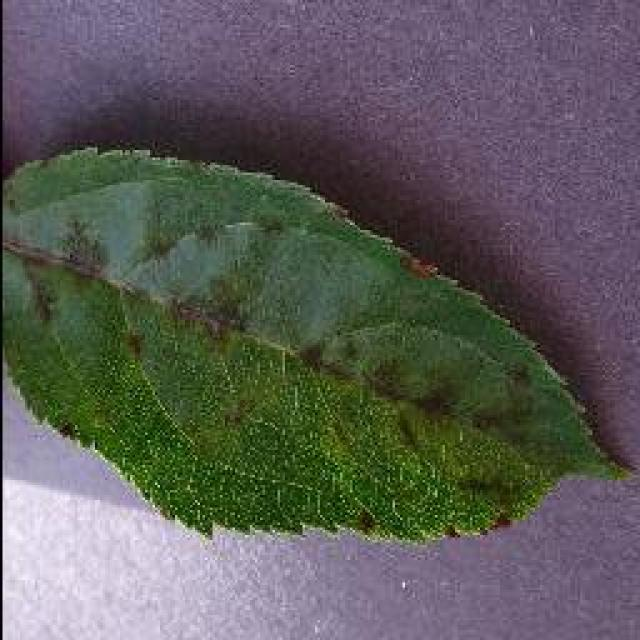apple scab disease: (0, 140, 635, 548)
